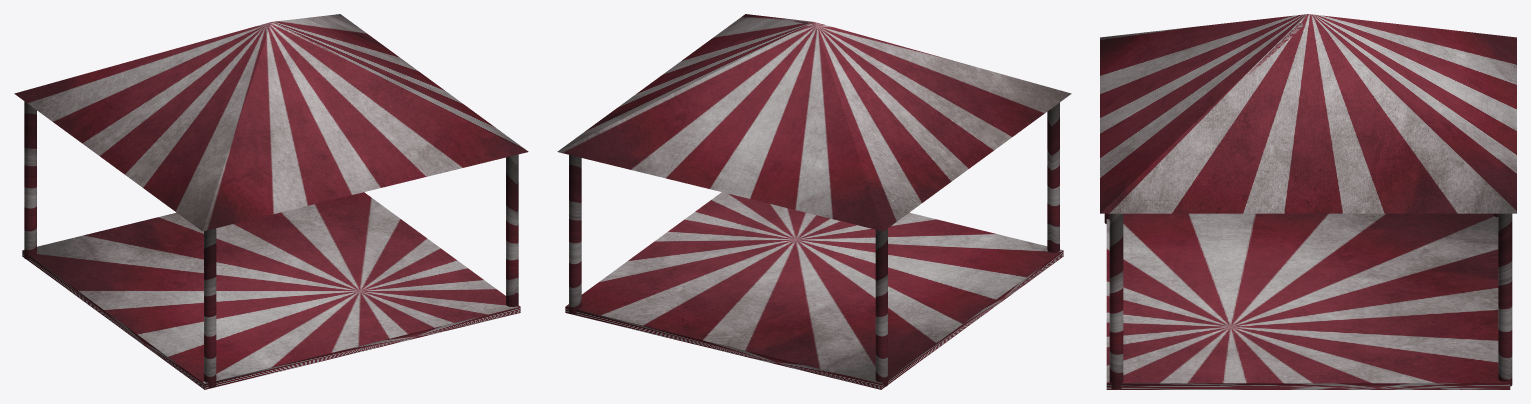
The model's file is carpa_tasas.obj.
3 views of the same model, side by side, from view 1: azimuth 30°, elevation 25°; view 2: azimuth 150°, elevation 25°; view 3: azimuth 270°, elevation 25° (orthographic). The views are drawn at different scales.
Visible parts, largest first — view 1: Tent; view 2: Tent; view 3: Tent.
Part boxes in pixels (left/top/right/bottom): Tent: left=14, top=14, right=528, bottom=389; Tent: left=557, top=14, right=1071, bottom=389; Tent: left=1100, top=14, right=1516, bottom=389.
Size of the model in its own units: 16.24 by 12.49 by 16.24.
Materials: 1 (1 with a texture image).
